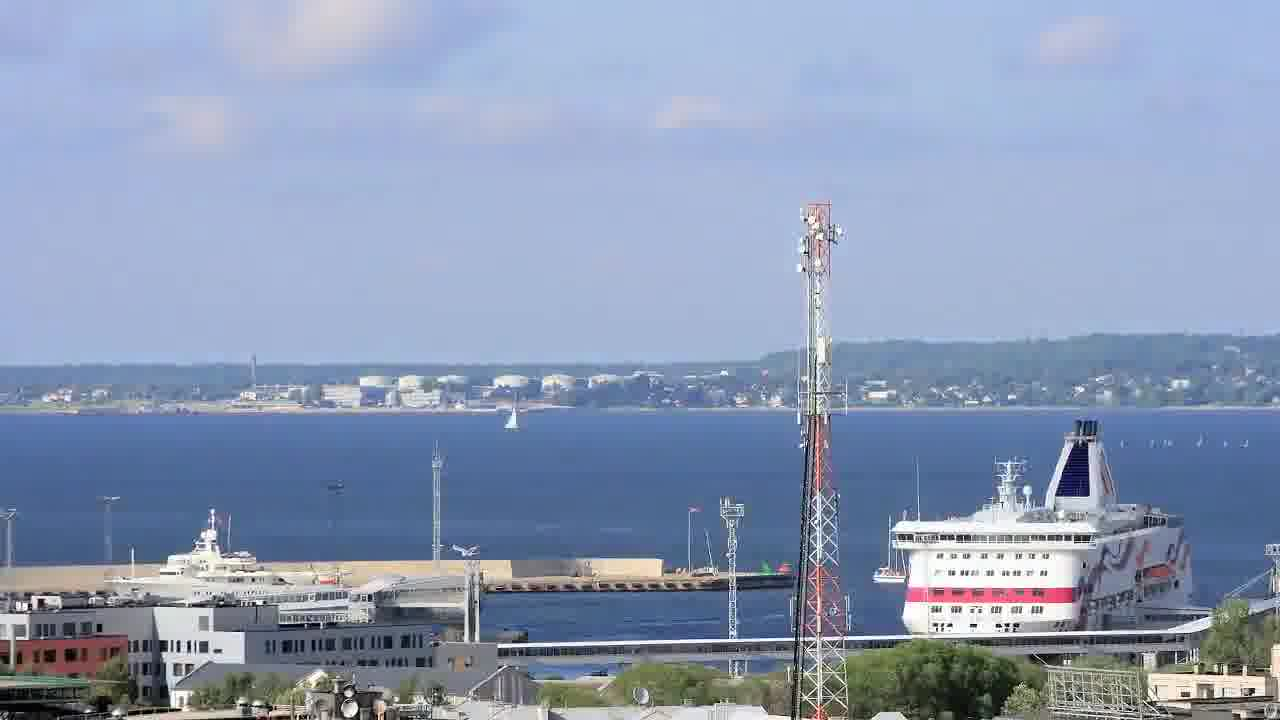type-2: (489, 387, 546, 446)
type-3: (868, 415, 1225, 638), (84, 511, 353, 609)
